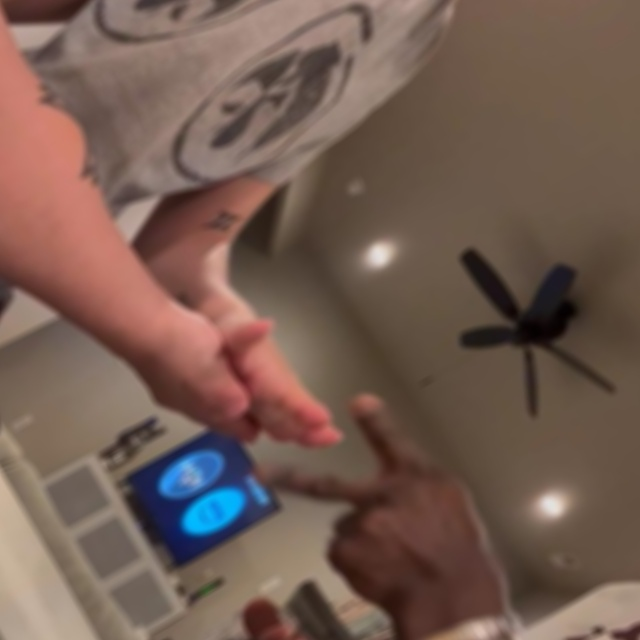Paper: (204, 287, 355, 474)
Scissors: (237, 369, 510, 640)
